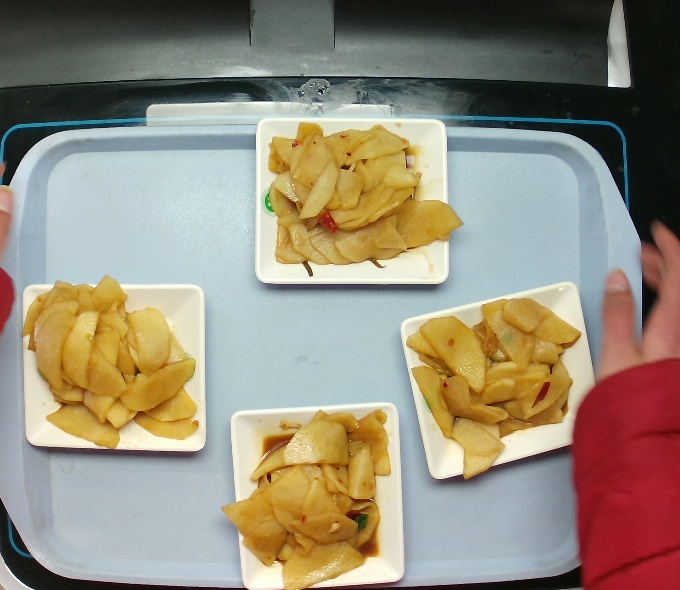wcq-YanLuoBo: (13, 267, 210, 453), (219, 409, 399, 577), (270, 120, 448, 280), (414, 301, 573, 472)
